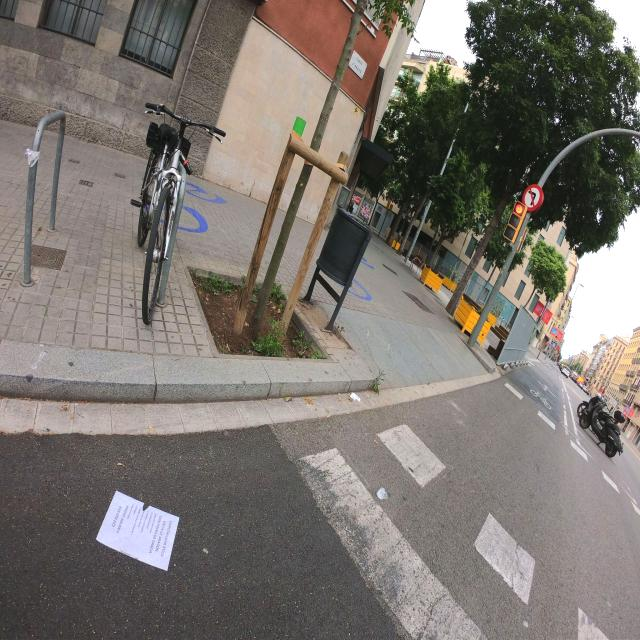bike: (128, 73, 230, 334), (579, 389, 627, 457), (599, 415, 624, 457)
car: (562, 359, 571, 378)
